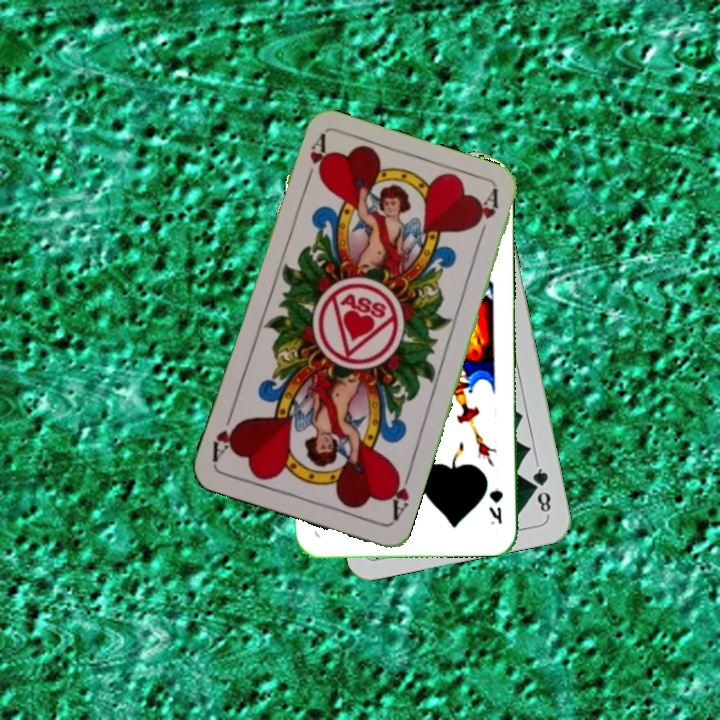G8: (528, 459, 554, 518)
GK: (484, 485, 505, 528)
HA: (384, 466, 414, 523), (301, 132, 330, 189)
